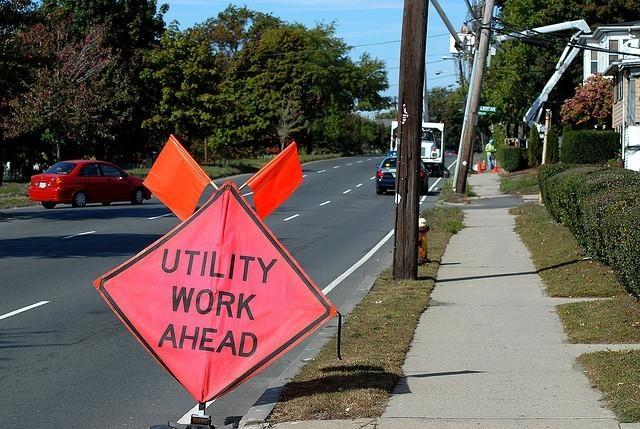car: (29, 160, 152, 208), (376, 154, 430, 195)
truck: (390, 121, 446, 178)
